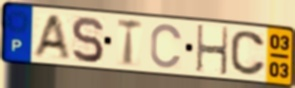A: (30, 14, 72, 60)
C: (229, 29, 268, 78), (149, 23, 184, 71)
H: (195, 23, 230, 77)
S: (69, 15, 106, 65)
T: (115, 17, 144, 68)
